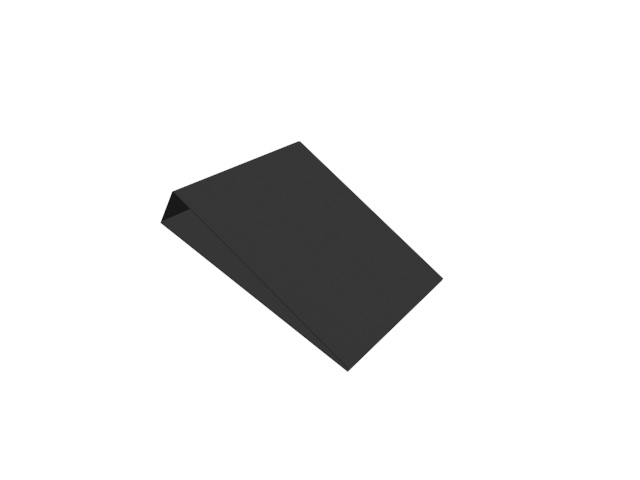ring_binder: (161, 137, 448, 376)
